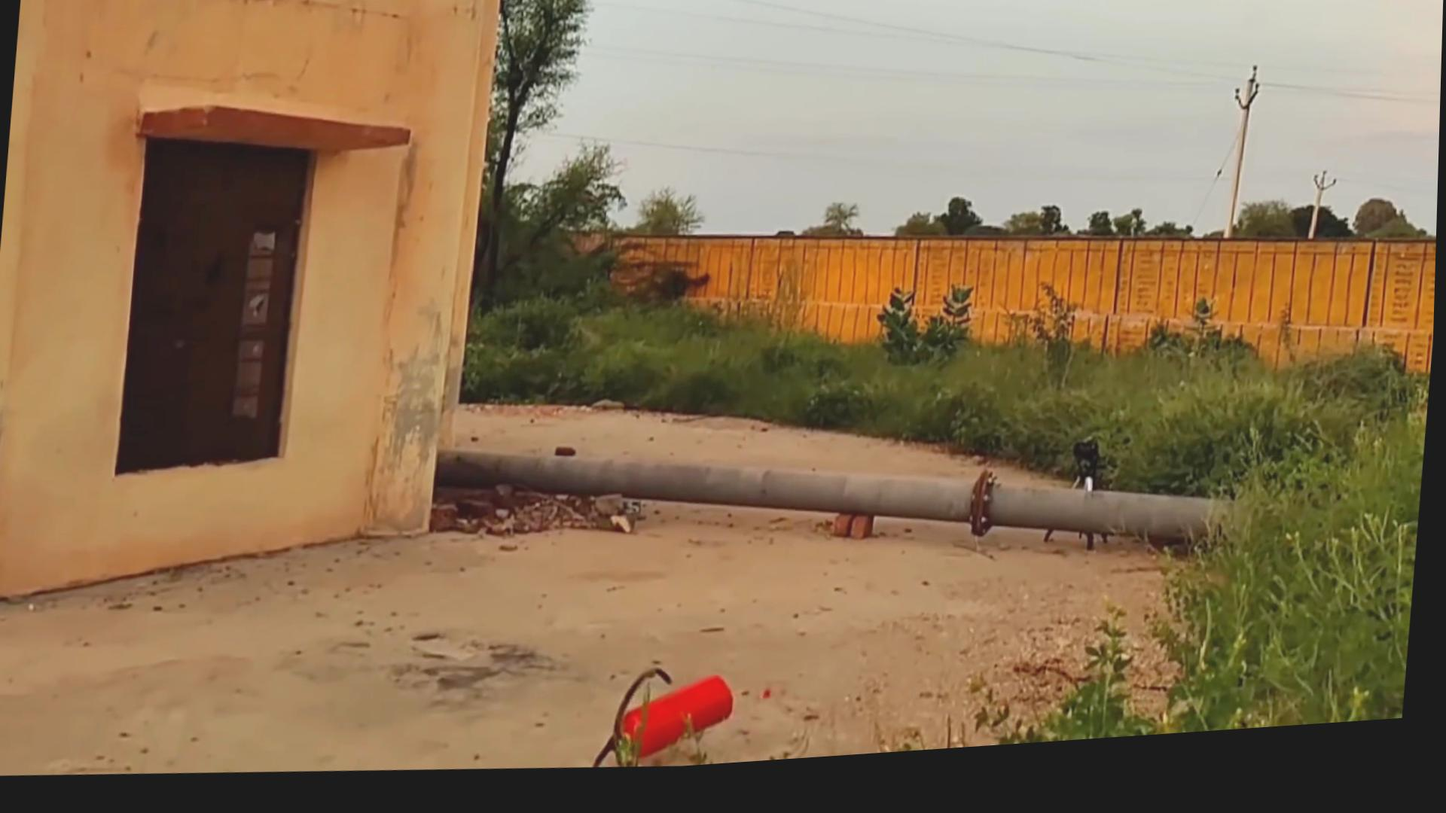FireExtinguisher: (584, 663, 761, 781)
